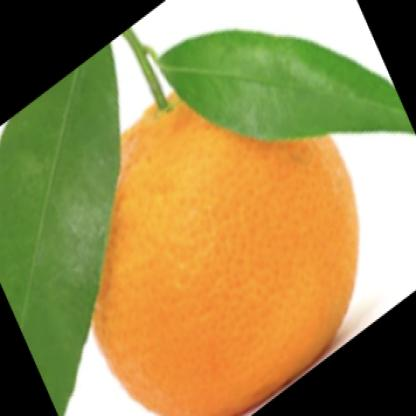fresh: (89, 44, 361, 416)
